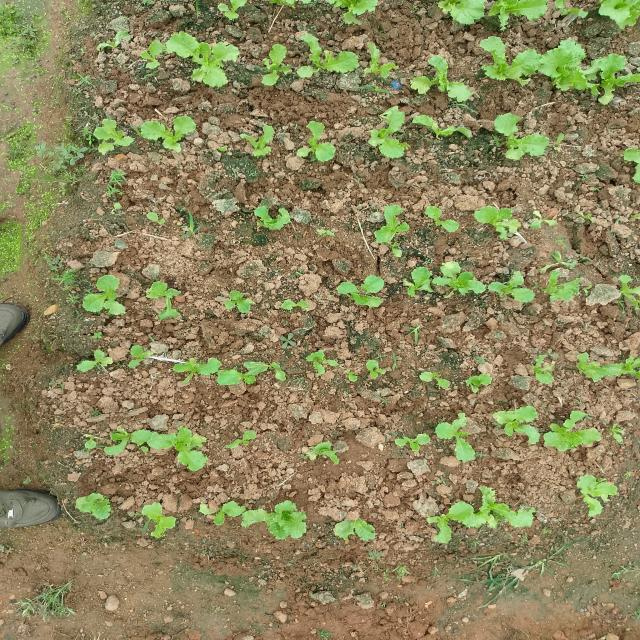Lettuce: (105, 426, 219, 471), (169, 26, 239, 95), (297, 28, 359, 83), (402, 56, 479, 100), (478, 33, 544, 84), (468, 482, 538, 528), (496, 112, 554, 165), (274, 0, 382, 27), (589, 51, 640, 107), (538, 41, 589, 95), (77, 272, 127, 325), (428, 256, 490, 298), (422, 499, 481, 541), (247, 502, 312, 540), (537, 412, 603, 449), (473, 206, 532, 247), (137, 279, 192, 321), (213, 359, 288, 389), (367, 104, 408, 158), (296, 114, 342, 162), (440, 406, 476, 464), (194, 496, 254, 530), (484, 272, 544, 306), (576, 473, 620, 519), (489, 406, 545, 442), (140, 115, 193, 152), (574, 351, 640, 380), (408, 111, 476, 139), (416, 201, 473, 234), (489, 2, 555, 30), (376, 201, 410, 255), (337, 275, 386, 310), (585, 1, 640, 32), (435, 0, 495, 27), (69, 491, 115, 526), (530, 245, 580, 277), (239, 121, 279, 161), (522, 351, 564, 388), (326, 513, 383, 540), (362, 42, 408, 75), (90, 120, 134, 154), (168, 356, 216, 387), (141, 502, 179, 541), (545, 271, 587, 304), (398, 260, 434, 296), (136, 34, 166, 77), (260, 44, 292, 84), (251, 203, 295, 230), (76, 344, 115, 374), (456, 372, 495, 399), (124, 342, 158, 371), (224, 284, 254, 316), (618, 273, 640, 316), (409, 367, 452, 388), (390, 430, 428, 452), (596, 421, 626, 448), (214, 0, 252, 21), (222, 429, 261, 449), (310, 350, 340, 376), (623, 144, 640, 187), (310, 440, 340, 464), (282, 291, 310, 316), (144, 210, 178, 227), (364, 359, 389, 380), (80, 432, 104, 452), (343, 364, 360, 384), (522, 460, 529, 464), (354, 90, 356, 97)
